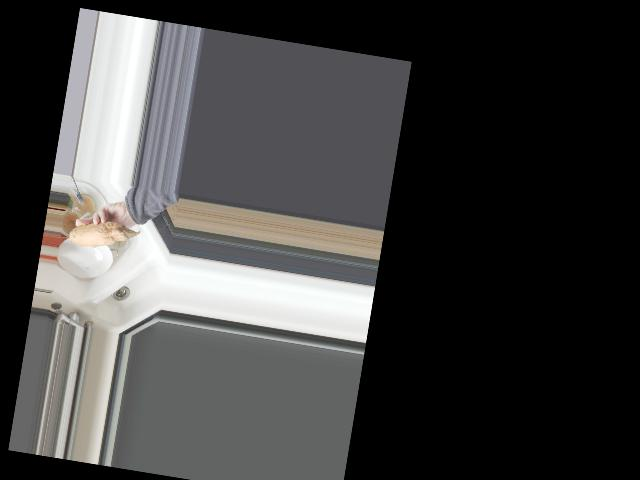sweet_potato: (68, 215, 141, 256)
